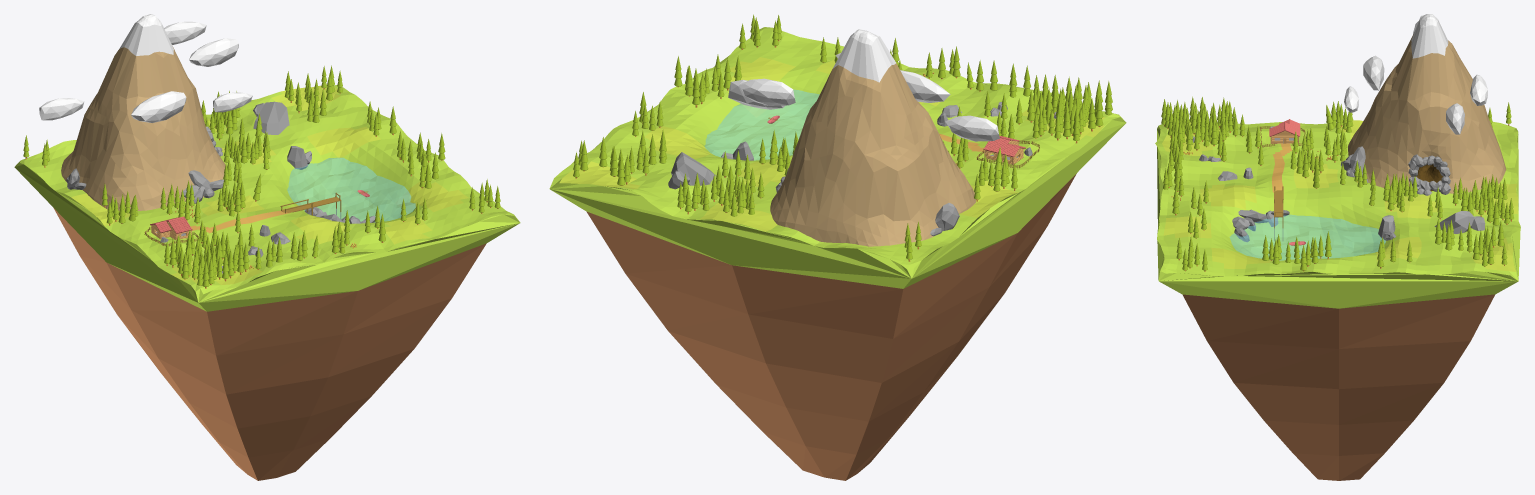
Rendered from low_poly_nature.glb.
3 views of the same model, side by side, from view 1: azimuth 30°, elevation 25°; view 2: azimuth 150°, elevation 25°; view 3: azimuth 270°, elevation 25° (orthographic). The views are drawn at different scales.
Visible parts, largest first — view 1: Object_3, Object_9, Object_2, Object_5, Object_11, Object_6, Object_30, Object_41, Object_19, Object_18, Object_12, Object_32 (+7 smaller); view 2: Object_3, Object_9, Object_2, Object_5, Object_30, Object_41, Object_11, Object_6, Object_12, Object_19, Object_33, Object_35 (+6 smaller); view 3: Object_9, Object_3, Object_2, Object_5, Object_11, Object_30, Object_41, Object_18, Object_6, Object_19, Object_12, Object_28 (+13 smaller).
Part boxes in pixels (<box>): Object_3: <box>53,208,486,480</box>; Object_9: <box>14,85,520,311</box>; Object_2: <box>61,47,225,210</box>; Object_5: <box>71,85,468,284</box>; Object_11: <box>287,157,415,222</box>; Object_6: <box>39,21,252,122</box>; Object_30: <box>284,65,500,212</box>; Object_41: <box>118,196,282,286</box>; Object_19: <box>160,101,311,273</box>; Object_18: <box>66,126,375,223</box>; Object_12: <box>119,14,173,55</box>; Object_32: <box>42,132,338,252</box>; Object_3: <box>586,173,1076,480</box>; Object_9: <box>549,27,1126,288</box>; Object_2: <box>770,63,975,246</box>; Object_5: <box>559,57,1105,231</box>; Object_30: <box>573,14,781,185</box>; Object_41: <box>1001,63,1112,183</box>; Object_11: <box>704,89,819,160</box>; Object_6: <box>728,53,999,141</box>; Object_12: <box>833,29,895,82</box>; Object_19: <box>668,102,1056,189</box>; Object_33: <box>926,48,1017,191</box>; Object_35: <box>723,177,754,216</box>; Object_9: <box>1155,122,1520,308</box>; Object_3: <box>1183,294,1495,480</box>; Object_2: <box>1348,34,1506,193</box>; Object_5: <box>1162,120,1518,271</box>; Object_11: <box>1229,214,1385,260</box>; Object_30: <box>1176,218,1507,270</box>; Object_41: <box>1161,96,1336,160</box>; Object_18: <box>1232,146,1450,241</box>; Object_6: <box>1344,21,1487,134</box>; Object_19: <box>1192,126,1485,240</box>; Object_12: <box>1411,14,1448,58</box>; Object_28: <box>1193,134,1337,238</box>.
Size of the model in its own units: 21.3 by 25.99 by 20.07.
